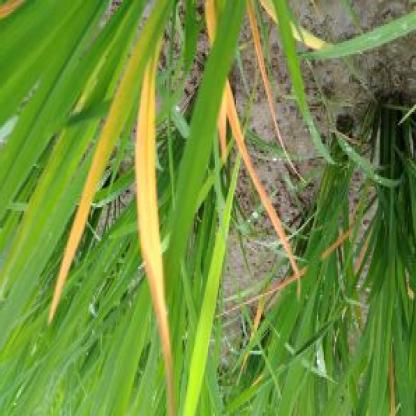Tungro: (130, 79, 179, 413)
